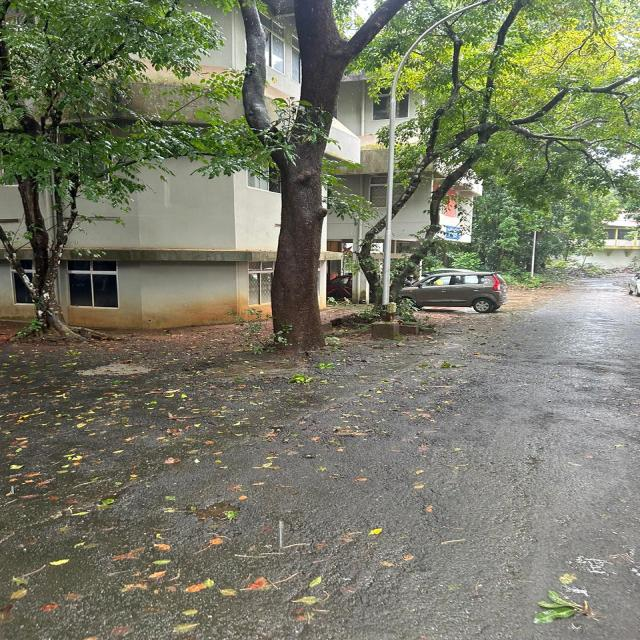car ahead at: (418, 274, 507, 315)
tree ahead at: (212, 0, 409, 355)
